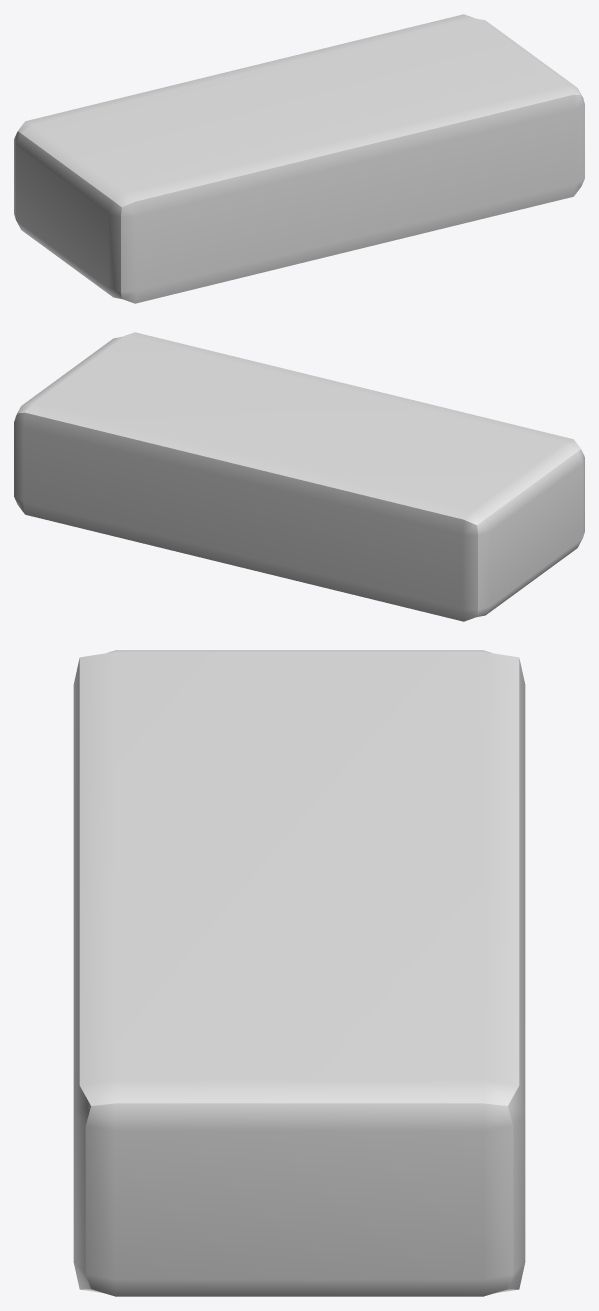
File: BotonMenosEXPORT.glb
The picture shows the model from 3 angles, top to bottom: view 1: azimuth 30°, elevation 25°; view 2: azimuth 150°, elevation 25°; view 3: azimuth 270°, elevation 25°; orthographic projection. The views are drawn at different scales.
Parts seen in each view (by area): view 1: VolMenos; view 2: VolMenos; view 3: VolMenos.
Boxes of the visible parts, <box> form: VolMenos: <box>14,14,584,303</box>; VolMenos: <box>14,332,584,621</box>; VolMenos: <box>73,650,525,1296</box>.
Bounding box in the file's own units: 0.3287 × 0.0712 × 0.1355.
1 material, 1 textured.
